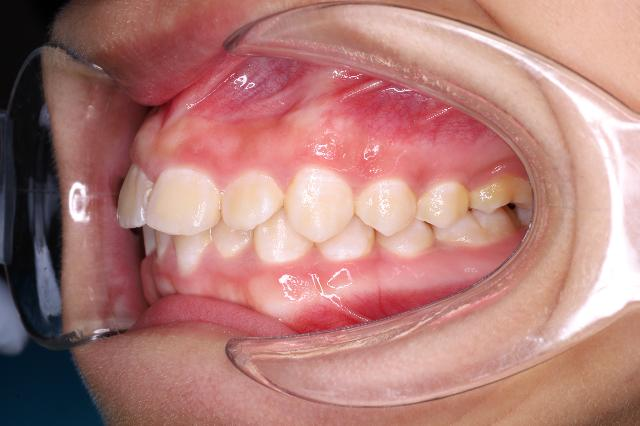canine class I: (250, 164, 378, 270)
molar class III 1/2: (432, 175, 536, 253)
